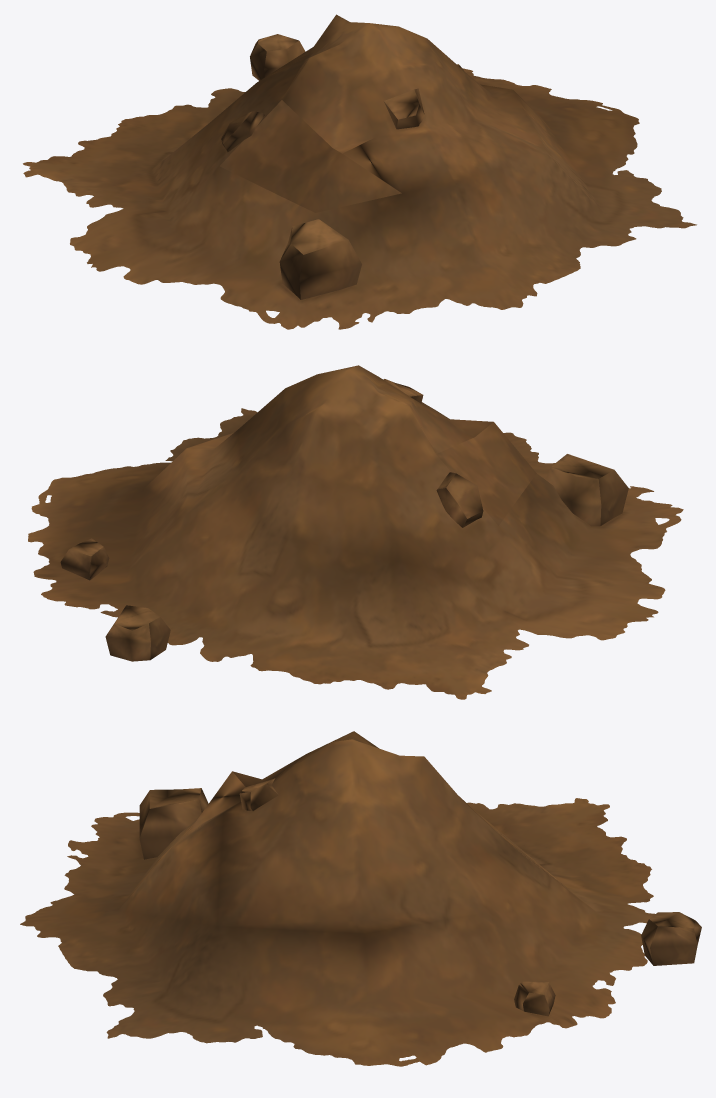
The model's file is mi_clay.FBX.
3 views of the same model, one above another, from view 1: azimuth 30°, elevation 25°; view 2: azimuth 150°, elevation 25°; view 3: azimuth 270°, elevation 25° (orthographic). The views are drawn at different scales.
Visible parts, largest first — view 1: mi_clay; view 2: mi_clay; view 3: mi_clay.
Boxes of the visible parts, x1=… form: mi_clay: x1=23, y1=14, x2=696, y2=329; mi_clay: x1=28, y1=365, x2=683, y2=699; mi_clay: x1=20, y1=731, x2=701, y2=1066.
Size of the model in its own units: 0.7302 by 0.2014 by 0.6641.
Materials: 1 (1 with a texture image).
